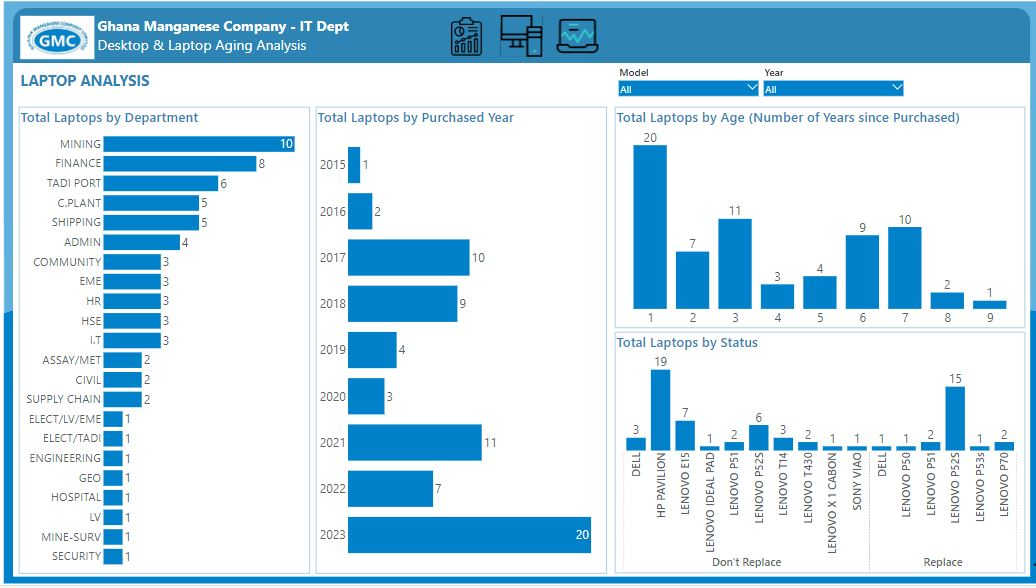

This screenshot's page, from the dashboard's own definition file:
{"tool":"powerbi","page":{"name":"Laptop","canvas":[4155,2320],"ordinal":2},"visuals":[{"type":"image","box":[35.7,0,4119.3,2318.8],"z":0},{"type":"shape","box":[80.4,31.3,4034.4,218.9],"z":1000},{"type":"shape","box":[80.4,250.2,4034.4,2037.3],"z":2000},{"type":"image","box":[102.8,22.3,303.8,250.2],"z":3000},{"type":"textbox","box":[406.6,58.1,1108,183.2],"z":4000},{"type":"actionButton","box":[2213,53.6,210,174.2],"z":5000},{"type":"actionButton","box":[1992.6,53.6,210,174.2],"z":6000},{"type":"textbox","box":[102.8,272.5,576.3,89.4],"z":7000},{"type":"clusteredBarChart","title":"Total Laptops by Department","fields":{"Category":["Laptop_PC.DEPARMENT","Laptop_PC.PC MODEL"],"Y":["Device_Measures.Total Laptops"]},"box":[102.8,424.4,1152.7,1849.6],"z":8000},{"type":"clusteredColumnChart","title":"Total Laptops by Age (Number of Years since Purchased)","fields":{"Category":["Laptop_PC.Number of Years","Laptop_PC.PC MODEL"],"Y":["Device_Measures.Total Laptops"]},"box":[2466.2,424.4,1626.3,875.7],"z":9000},{"type":"clusteredBarChart","title":"Total Laptops by Purchased Year","fields":{"Category":["Laptop_PC.PURCHASED DATE .Variation.Date Hierarchy.Year","Laptop_PC.PURCHASED DATE .Variation.Date Hierarchy.Month","Laptop_PC.PURCHASED DATE .Variation.Date Hierarchy.Day"],"Y":["Device_Measures.Total Laptops"]},"box":[1282.2,424.4,1152.7,1849.6],"z":10000},{"type":"clusteredColumnChart","title":"Total Laptops by Status","fields":{"Category":["Laptop_PC.PC_Status","Laptop_PC.Model"],"Y":["Device_Measures.Total Laptops"]},"box":[2466.2,1318,1626.3,956.1],"z":11000},{"type":"slicer","fields":{"Values":["Laptop_PC.Model"]},"box":[2470.7,254.7,576.3,151.9],"z":12000},{"type":"slicer","fields":{"Values":["Laptop_PC.Year"]},"box":[3047,254.7,576.3,151.9],"z":13000},{"type":"actionButton","box":[1791.6,58.1,169.8,169.8],"z":14000}]}

Visuals, with their boxes in screenshot pixels (x1, y1, x2, y2), scaled from the page's 4155x2320 canvas onto the 1036x588 screenshot:
image: box=[9, 0, 1035, 587]
shape: box=[20, 8, 1026, 63]
shape: box=[20, 63, 1026, 580]
image: box=[26, 6, 101, 69]
textbox: box=[101, 15, 378, 61]
actionButton: box=[552, 14, 604, 58]
actionButton: box=[497, 14, 549, 58]
textbox: box=[26, 69, 169, 92]
"Total Laptops by Department" clusteredBarChart: box=[26, 108, 313, 576]
"Total Laptops by Age (Number of Years since Purchased)" clusteredColumnChart: box=[615, 108, 1020, 330]
"Total Laptops by Purchased Year" clusteredBarChart: box=[320, 108, 607, 576]
"Total Laptops by Status" clusteredColumnChart: box=[615, 334, 1020, 576]
slicer - Laptop_PC.Model: box=[616, 65, 760, 103]
slicer - Laptop_PC.Year: box=[760, 65, 903, 103]
actionButton: box=[447, 15, 489, 58]
